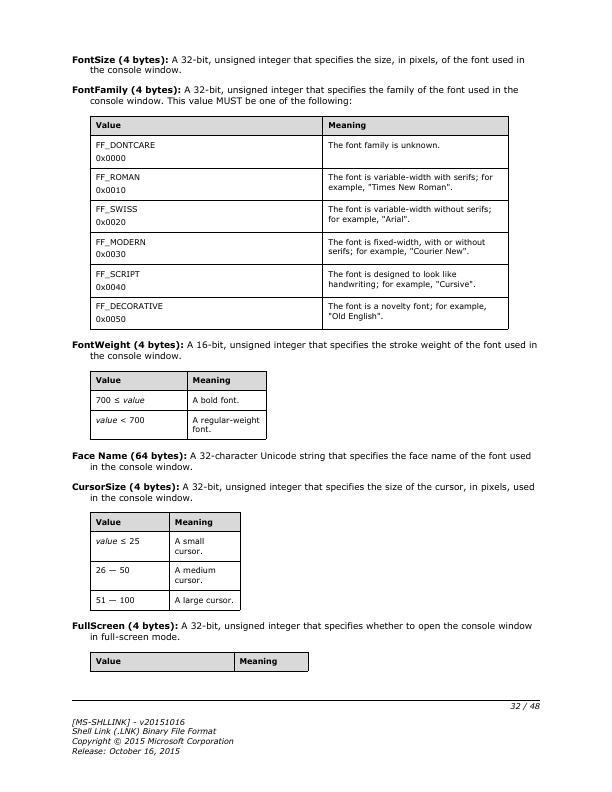table: (88, 113, 513, 333), (88, 510, 244, 614), (90, 370, 268, 442), (88, 651, 309, 674)
text: (68, 337, 540, 363), (68, 52, 525, 78), (66, 480, 535, 505), (66, 448, 534, 473), (68, 83, 519, 108), (70, 620, 535, 643), (68, 715, 235, 755)
